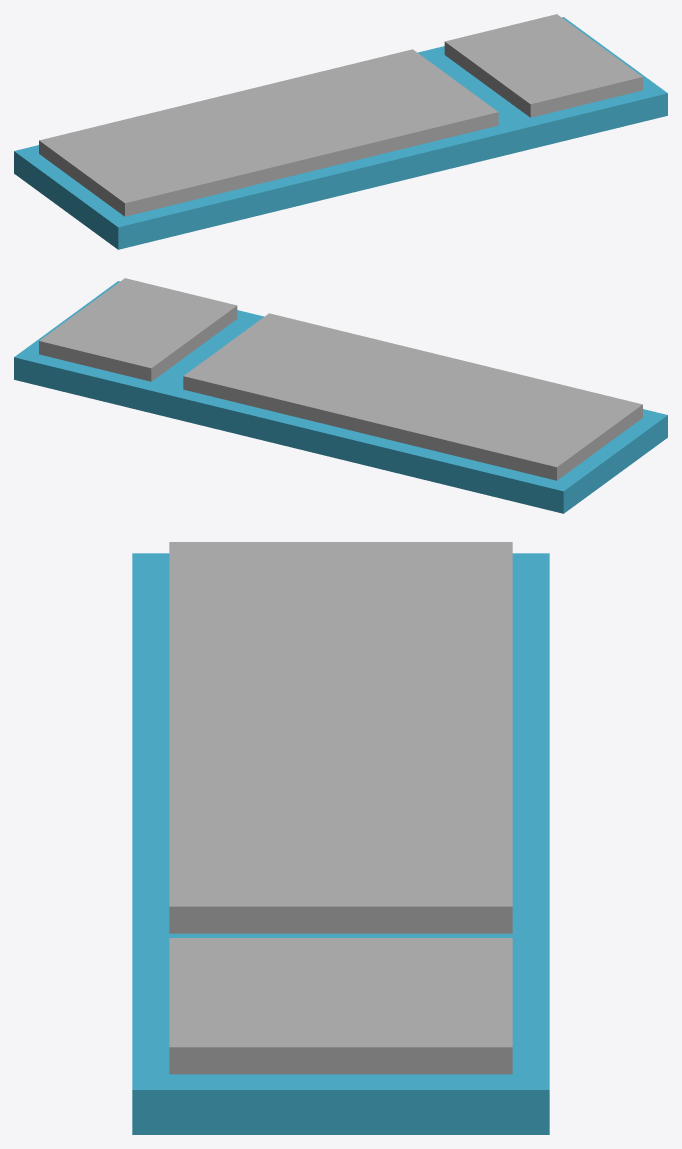
Rendered from Itr_Obj_Keyboard_04.FBX.
3 views of the same model, one above another, from view 1: azimuth 30°, elevation 25°; view 2: azimuth 150°, elevation 25°; view 3: azimuth 270°, elevation 25° (orthographic). The views are drawn at different scales.
Parts seen in each view (by area): view 1: Itr_Obj_Keyboard_04; view 2: Itr_Obj_Keyboard_04; view 3: Itr_Obj_Keyboard_04.
Boxes of the visible parts, <box> form: Itr_Obj_Keyboard_04: <box>14,14,667,249</box>; Itr_Obj_Keyboard_04: <box>14,278,667,513</box>; Itr_Obj_Keyboard_04: <box>132,542,549,1134</box>.
Size of the model in its own units: 29.34 by 1.83 by 9.64.
